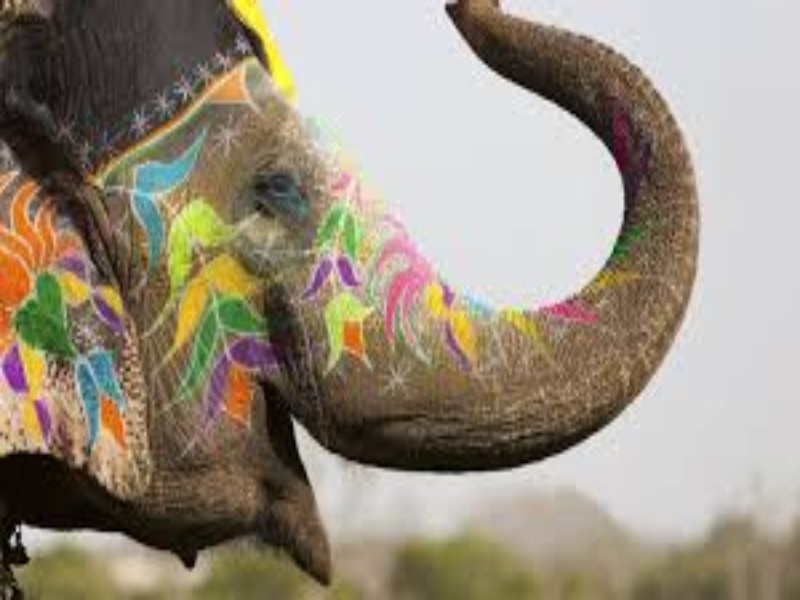elephant: (16, 9, 708, 591)
